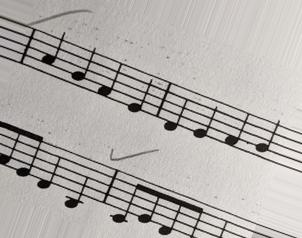note: (162, 82, 192, 134), (39, 30, 68, 83), (68, 43, 98, 94), (253, 116, 282, 168), (125, 66, 155, 116), (96, 54, 124, 106), (223, 104, 251, 155), (191, 92, 219, 141), (35, 141, 62, 190)
